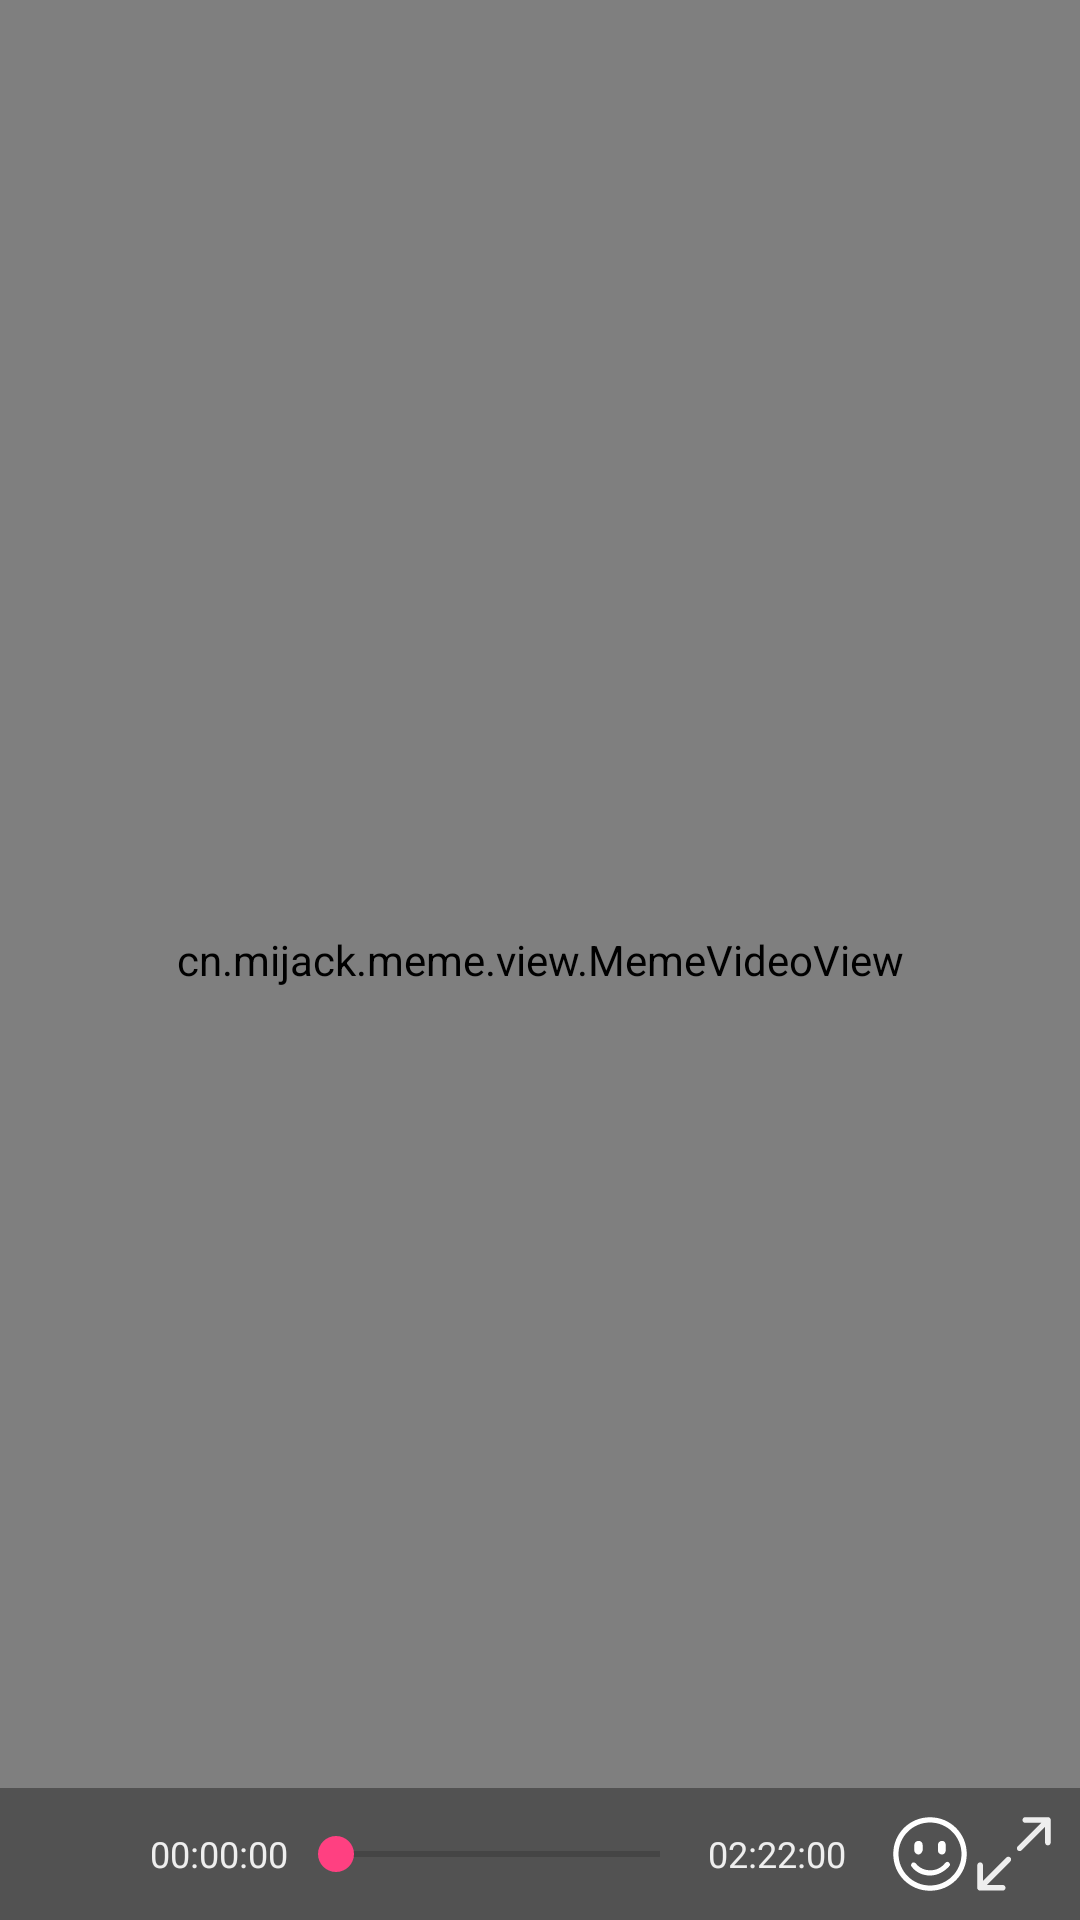

Locate icon controls on the screen. Image size 1080 x 1920, boxes as (x1, y1, x2, y2).
emoji: (893, 1817, 967, 1891)
fullscreen: (977, 1817, 1051, 1891)
